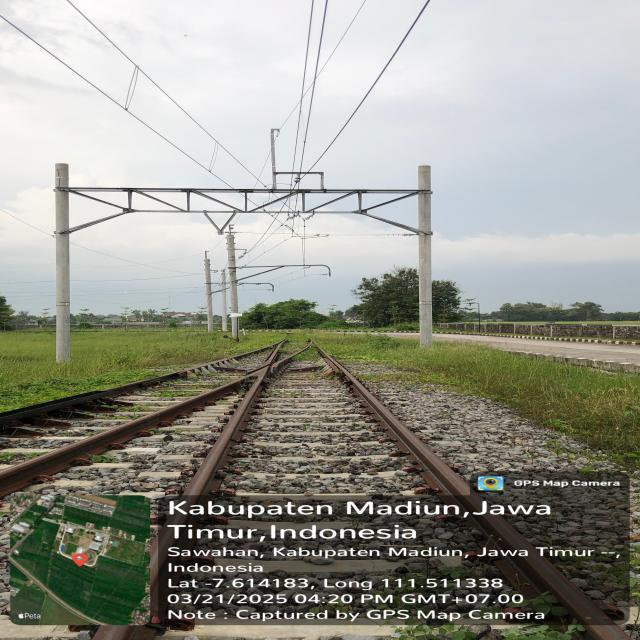rail-detection: (340, 366, 629, 640), (0, 380, 242, 496), (0, 350, 260, 424), (184, 366, 268, 496), (245, 361, 286, 381)
